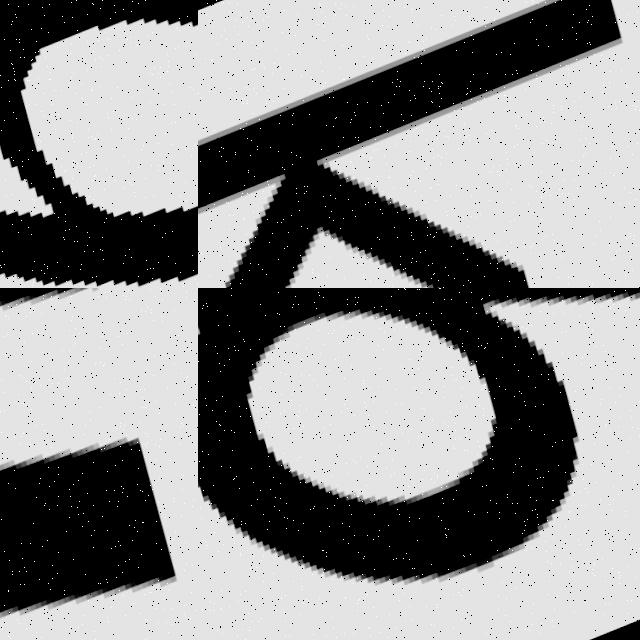9: (0, 0, 198, 288)
B: (198, 288, 640, 591)
K: (198, 0, 640, 288)
U: (0, 288, 198, 640)
